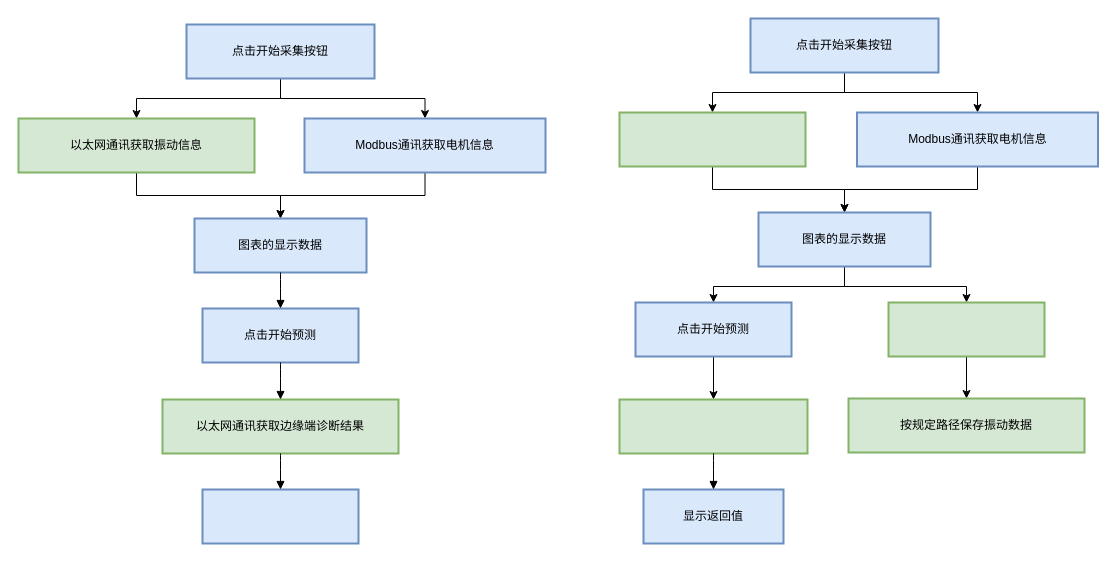
The diagram is 1116 pixels wide and 561 high, and some of its shapes have lost their labels. Each missing label, with the centre of its shape:
"利用数据进行诊断" goes at pixel 713 426.
"显示诊断结果" goes at pixel 280 516.
"点击数据保存" goes at pixel 966 329.
"调用子VI采集数据" goes at pixel 712 139.
